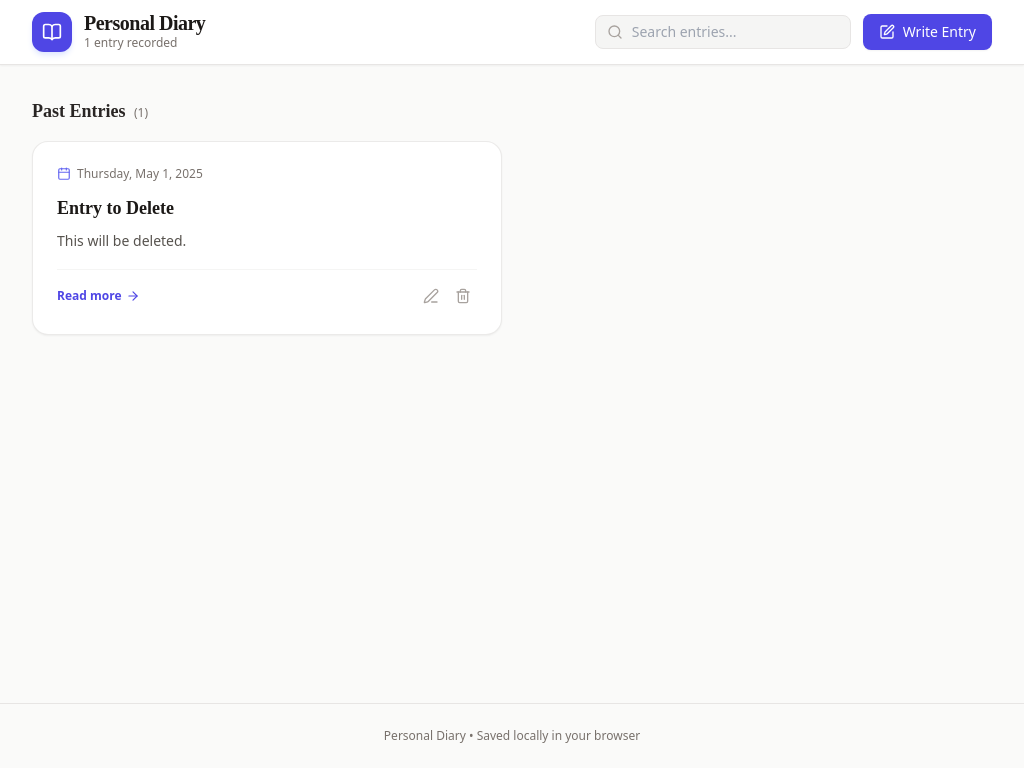
Scenario: Personal Diary App › allows user to delete an entry
Expected: the heading "Entry to Delete" is shown, [57,198,174,218]
Click the button named "Delete Entry to Delete": click(463, 296) [449,282,477,310]
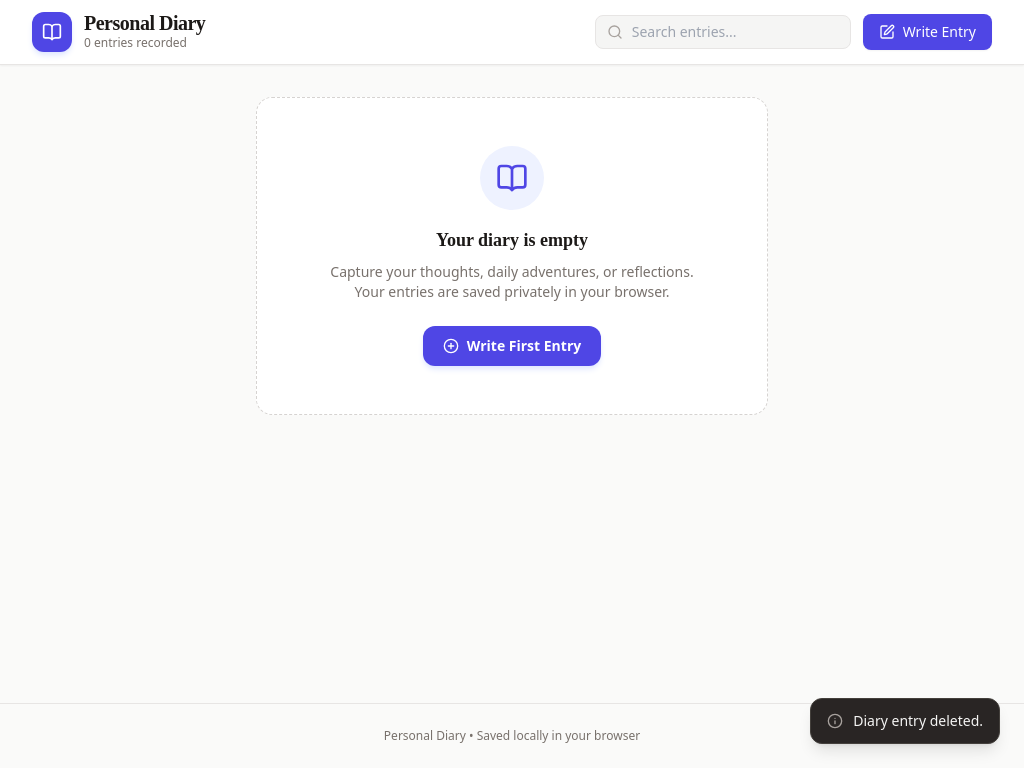
Result: the heading "Entry to Delete" is gone
